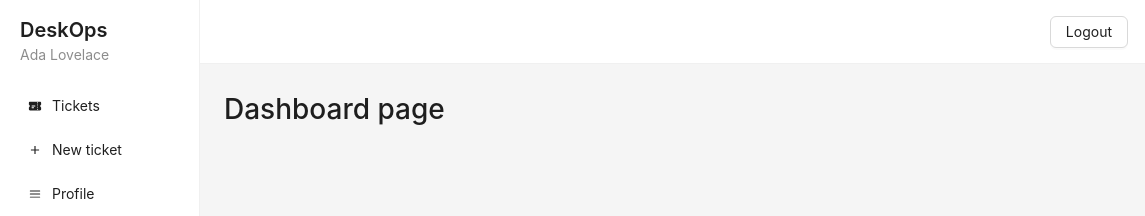
Test: AppShell › navigates from sidebar links
The width and height of the screenshot is (1145, 216).
Click the menu item "Tickets". click: point(64, 106)
box: [28,97,100,114]
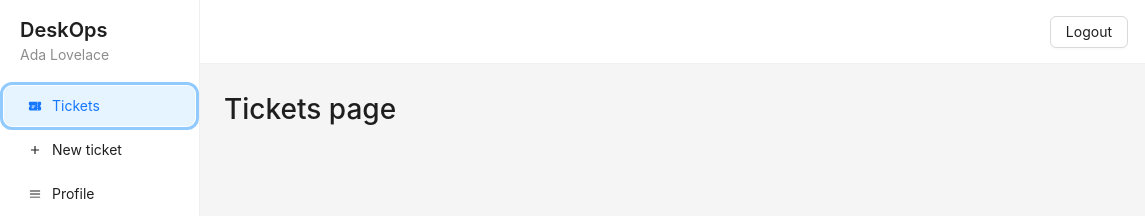
Expected: the heading "Tickets page" is shown, [224,92,396,126]
